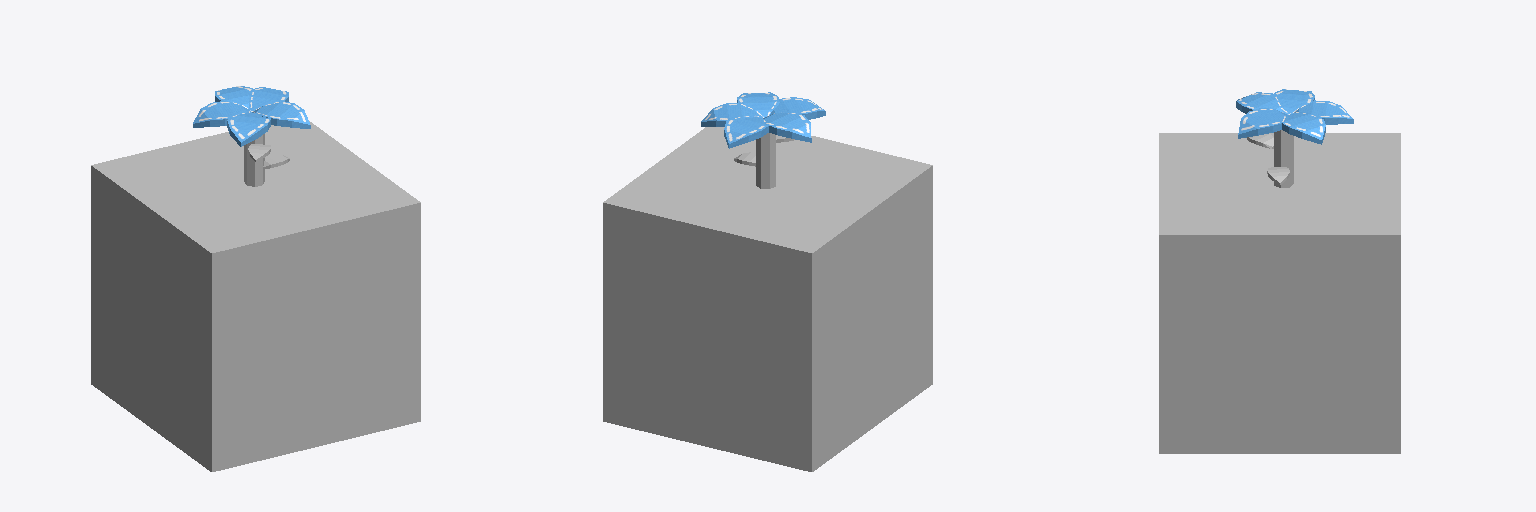
The picture shows the model from 3 angles: view 1: azimuth 30°, elevation 25°; view 2: azimuth 150°, elevation 25°; view 3: azimuth 270°, elevation 25°; orthographic projection.
Parts seen in each view (by area): view 1: Box008.001; view 2: Box008.001; view 3: Box008.001.
Part boxes in pixels (left/top/right/bottom): Box008.001: left=91, top=86, right=420, bottom=471; Box008.001: left=603, top=92, right=932, bottom=471; Box008.001: left=1159, top=89, right=1400, bottom=453.
Bounding box in the file's own units: 0.254 × 0.3407 × 0.254.
Materials: 3 (1 with a texture image).